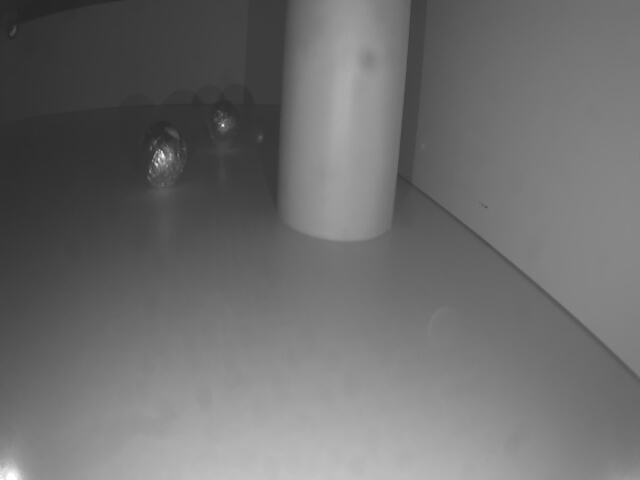Live: (135, 116, 188, 191), (204, 98, 243, 153)
